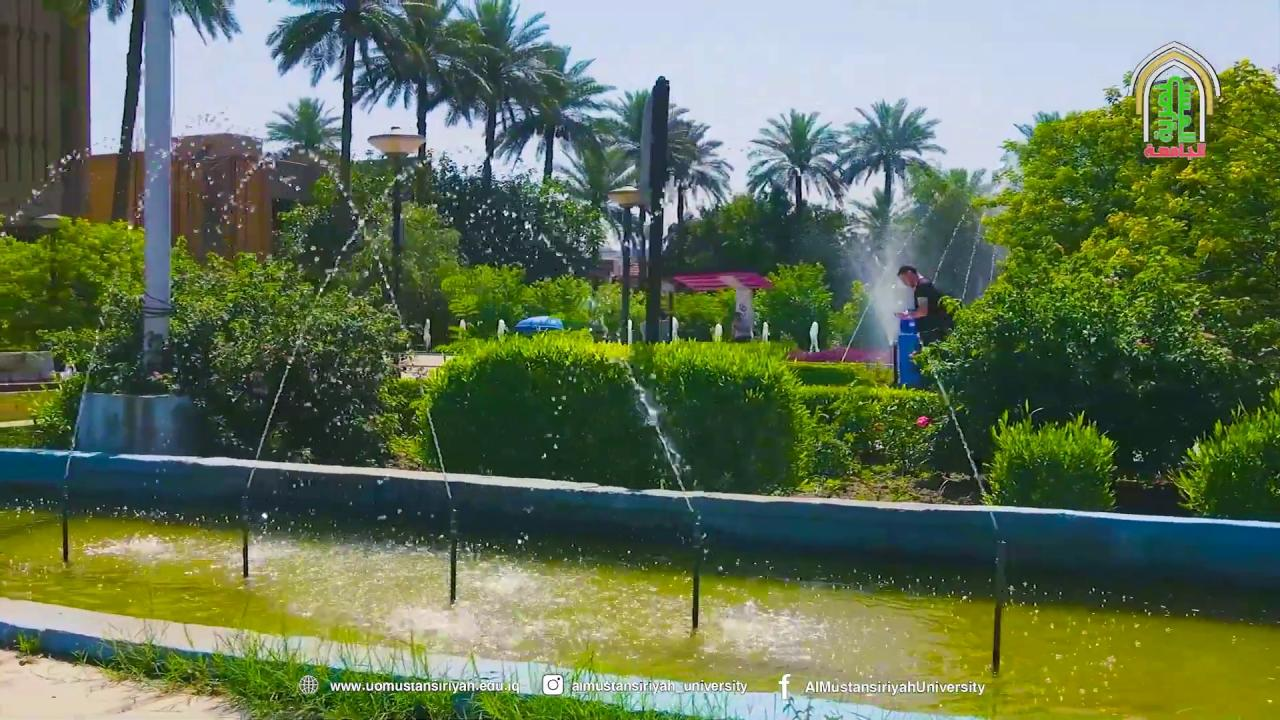fountain: (1, 447, 1279, 718), (786, 197, 1010, 379), (891, 310, 926, 388)
person: (893, 264, 954, 350)
tree: (910, 45, 1279, 508), (84, 0, 240, 227), (265, 0, 405, 228), (606, 87, 732, 340), (349, 0, 478, 205), (432, 0, 562, 189), (494, 43, 615, 188), (837, 96, 946, 250), (1165, 385, 1279, 521), (744, 107, 847, 223), (663, 114, 733, 224), (752, 259, 834, 352), (604, 183, 642, 343), (265, 95, 341, 158)
